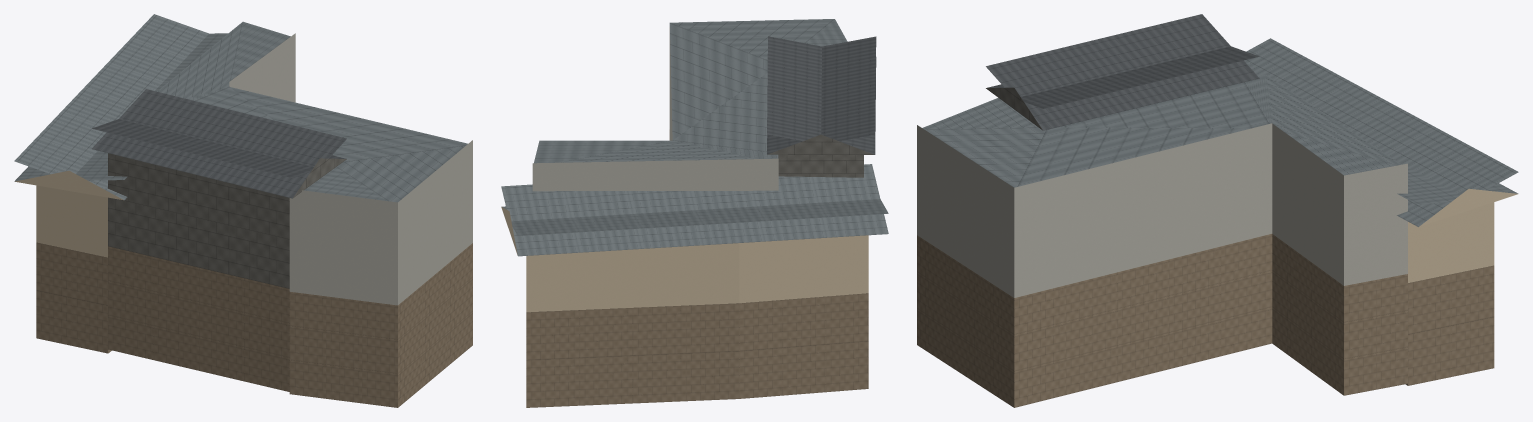
File: bld_c41_-9_498.gltf
3 renders of one model, left to right at view 1: azimuth 30°, elevation 25°; view 2: azimuth 150°, elevation 25°; view 3: azimuth 270°, elevation 25°, orthographic. The views are drawn at different scales.
Parts seen in each view (by area): view 1: bld_c41_-9_498; view 2: bld_c41_-9_498; view 3: bld_c41_-9_498.
Boxes of the visible parts, x1,y1,x2,y2 form: bld_c41_-9_498: [14, 14, 472, 407]; bld_c41_-9_498: [501, 19, 888, 407]; bld_c41_-9_498: [917, 14, 1518, 407].
Size of the model in its own units: 17.42 by 11.1 by 24.97.
9 materials, 9 textured.
